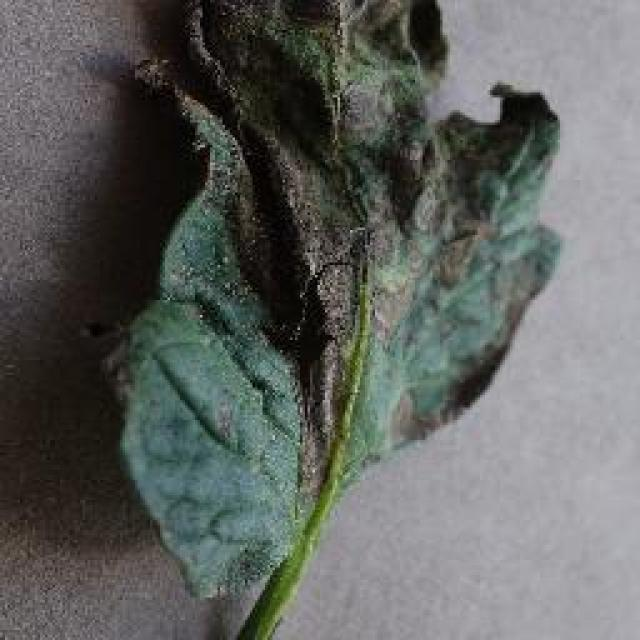Tomato Early blight leaf: (114, 2, 556, 638)
